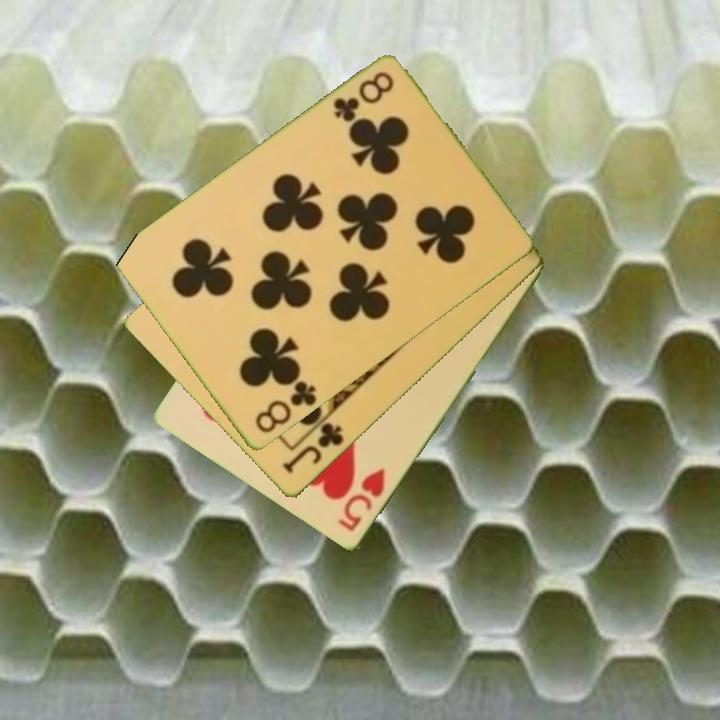5h: (334, 464, 389, 536)
8c: (251, 374, 320, 437), (329, 68, 397, 126)
Jc: (279, 419, 347, 477)
